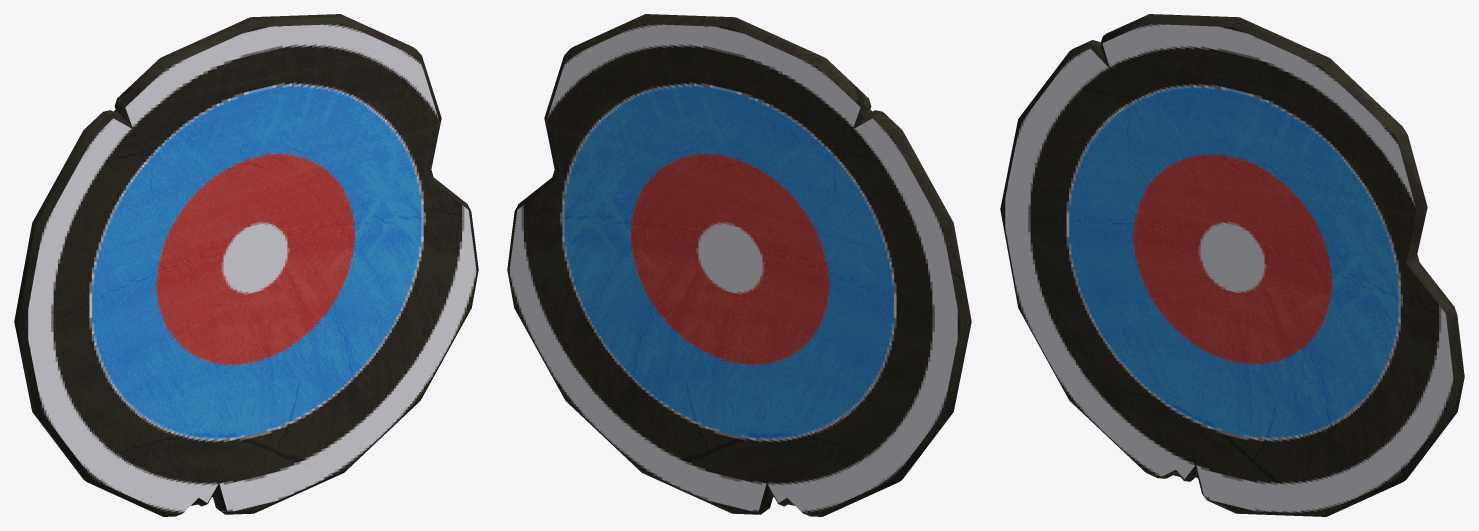
The model's file is Alvo.fbx.
3 renders of one model, left to right at view 1: azimuth 30°, elevation 25°; view 2: azimuth 150°, elevation 25°; view 3: azimuth 330°, elevation 25°, orthographic.
Parts seen in each view (by area): view 1: Alvo; view 2: Alvo; view 3: Alvo.
Boxes of the visible parts, x1,y1,x2,y2 form: Alvo: (14,14,478,516); Alvo: (507,14,971,516); Alvo: (1000,14,1464,516).
Bounding box in the file's own units: 1.43 × 1.46 × 0.0478.
Materials: 1 (1 with a texture image).
